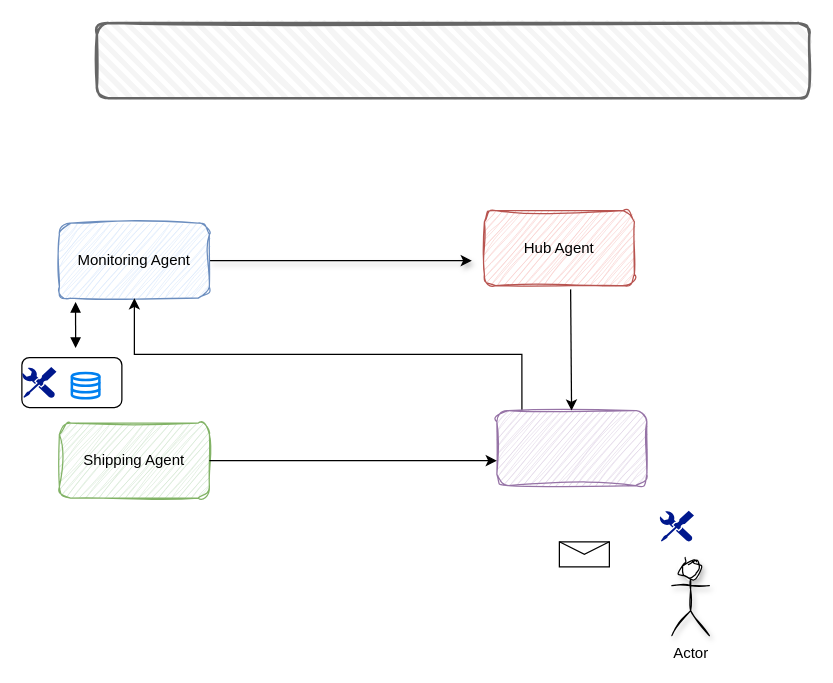
This 833x683 diagram has some shape labels left out. The shapes that lost their labels are listed below. From the top down, each one's centre as x and y in pixels, then its label:
At pixel 452 60: "Proactive Identification".
At pixel 571 447: "Customer Agent".
